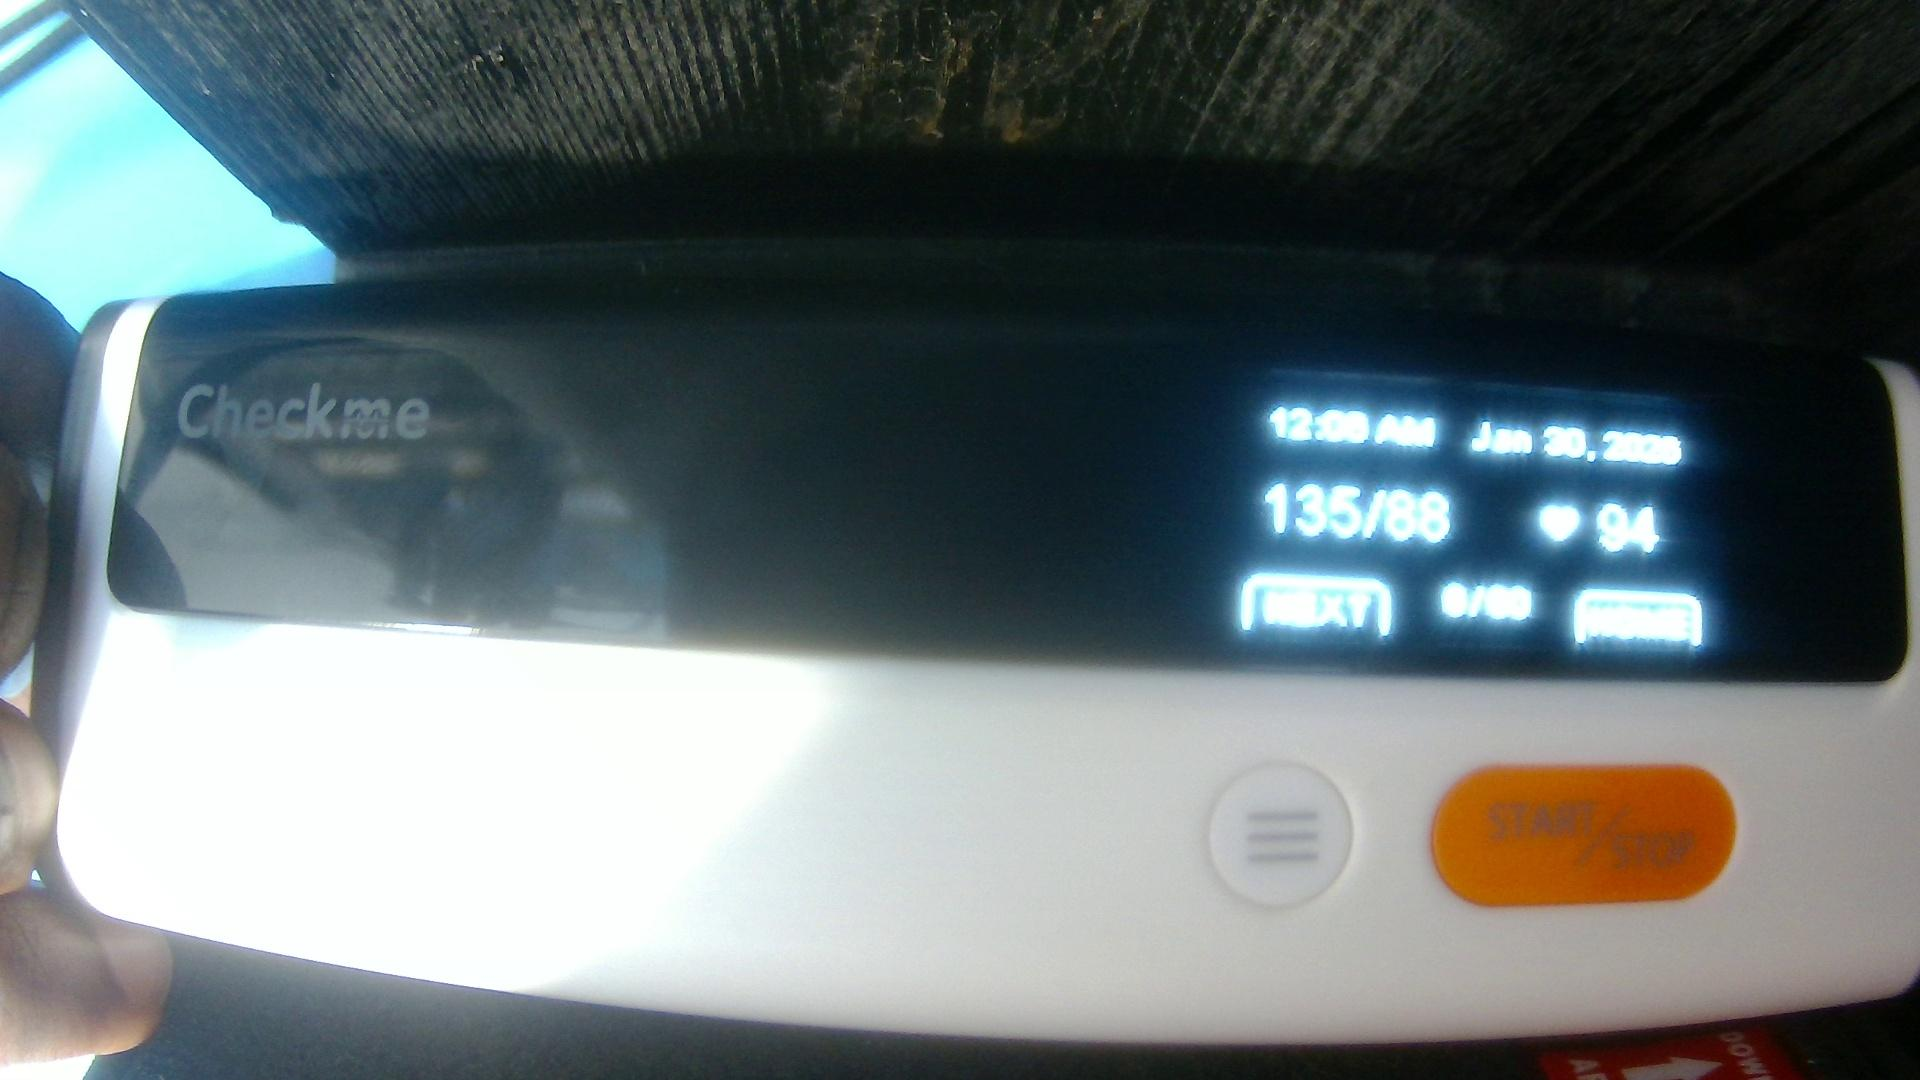DISPLAY: (116, 297, 1886, 674)
